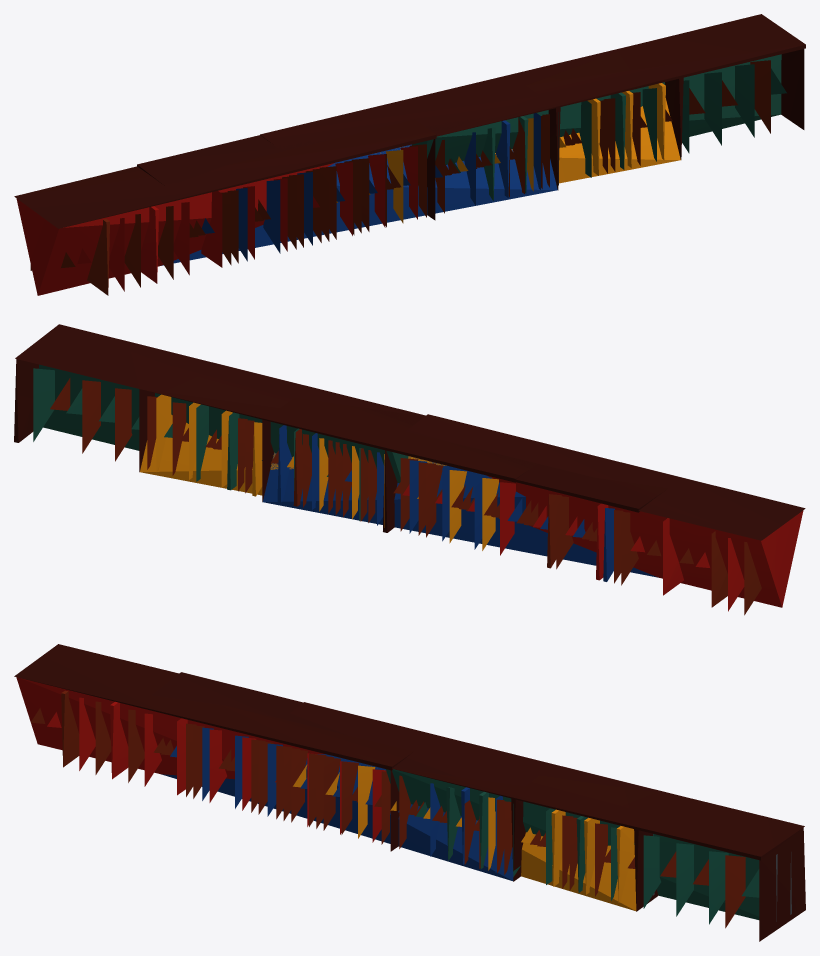
File: tb_containers.three-web-toon.lod25.glb
3 renders of one model, top to bottom at view 1: azimuth 30°, elevation 25°; view 2: azimuth 150°, elevation 25°; view 3: azimuth 330°, elevation 25°, orthographic.
Parts seen in each view (by area): view 1: container_red_lod, container_teal_lod, container_blue_lod, container_yellow_lod; view 2: container_red_lod, container_teal_lod, container_yellow_lod, container_blue_lod; view 3: container_teal_lod, container_red_lod, container_yellow_lod, container_blue_lod.
Boxes of the visible parts, x1,y1,x2,y2 form: container_red_lod: (14,119,436,295); container_teal_lod: (412,14,805,213); container_blue_lod: (137,106,560,265); container_yellow_lod: (260,44,683,242); container_red_lod: (383,414,805,615); container_teal_lod: (14,324,425,520); container_yellow_lod: (139,389,534,550); container_blue_lod: (262,407,667,585); container_teal_lod: (386,768,805,941); container_red_lod: (14,644,413,851); container_yellow_lod: (276,702,680,911); container_blue_lod: (152,672,525,881).
Bounding box in the file's own units: 24.33 × 2.66 × 2.54.
